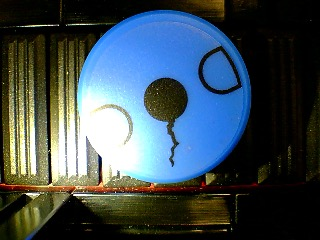CRACK: (75, 10, 252, 183)
